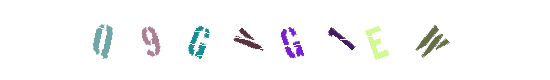1: (251, 0, 331, 80)
9: (158, 0, 238, 80)
E: (312, 0, 392, 80)
G: (179, 0, 259, 80), (246, 0, 326, 80)
Q: (75, 0, 155, 80)
V: (235, 0, 315, 80)
W: (385, 0, 465, 80)
